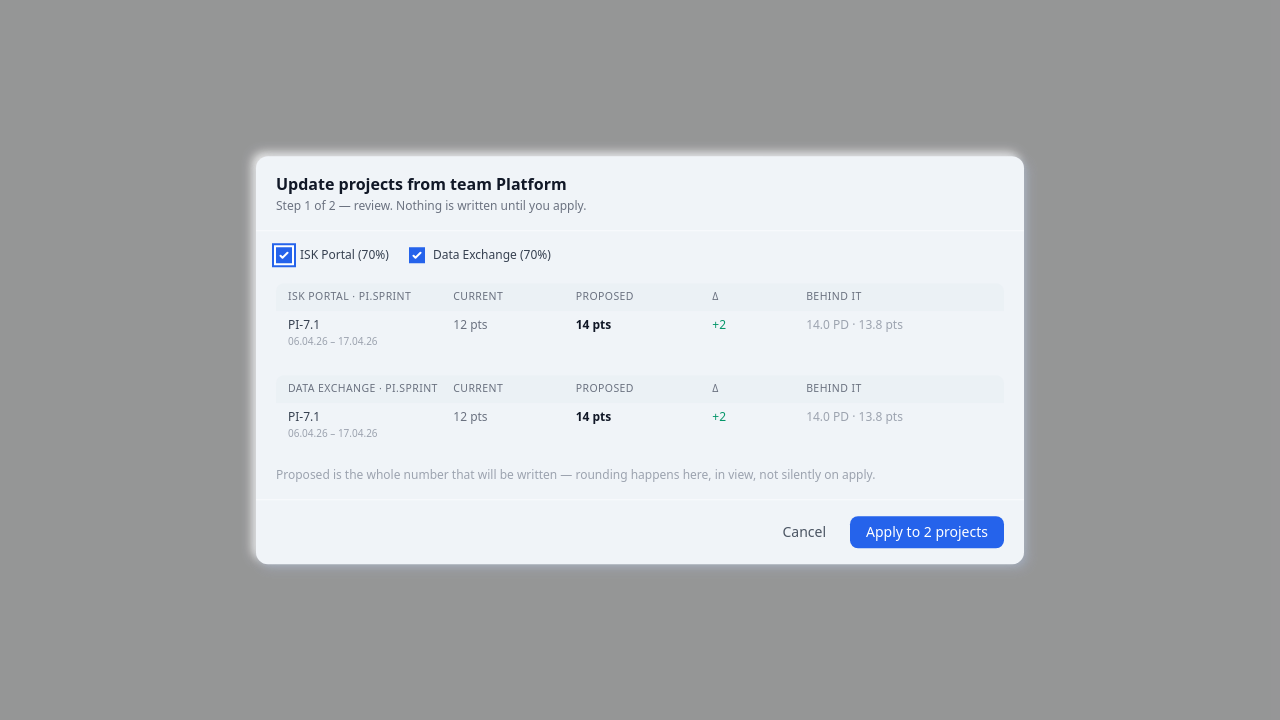
Scenario: PushProjectsModal › reads a rejected single-project apply as locked, not as a generic error
Click the checkbox labelled "Data Exchange (70%)". click: point(417, 255)
box: [409,247,425,263]
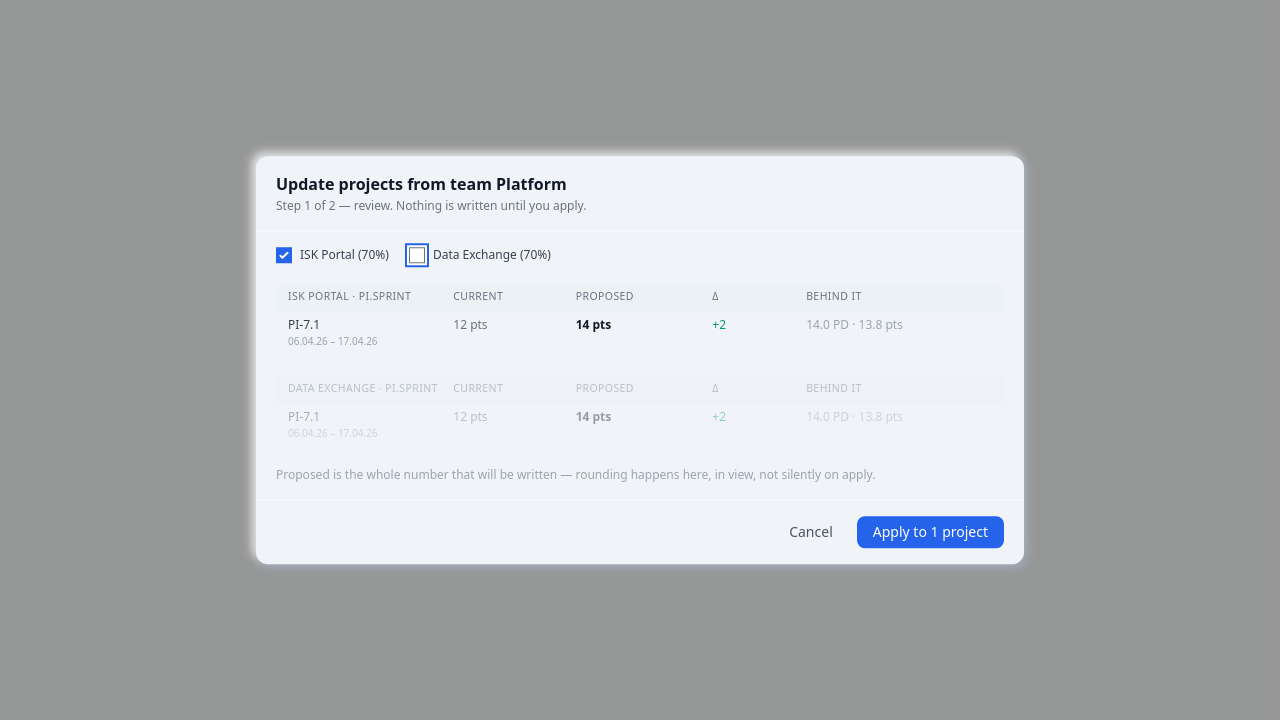
Click the button "Apply to 1 project". click: point(930, 532)
box: [857,516,1004,548]
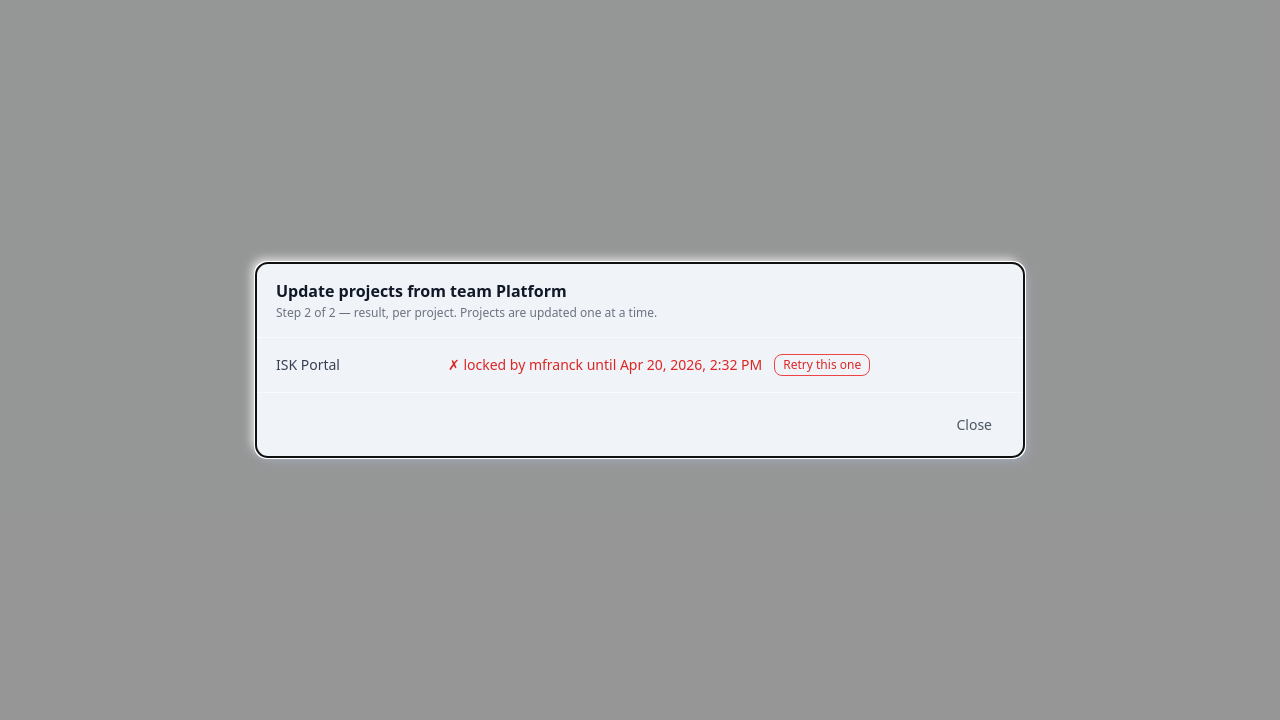
expect the text "✗ locked by mfranck until Apr 20, 2026, 2:32 PM" is shown: met, box [448,355,762,375]
expect the button "Retry this one" is shown: met, box [774,354,870,376]
